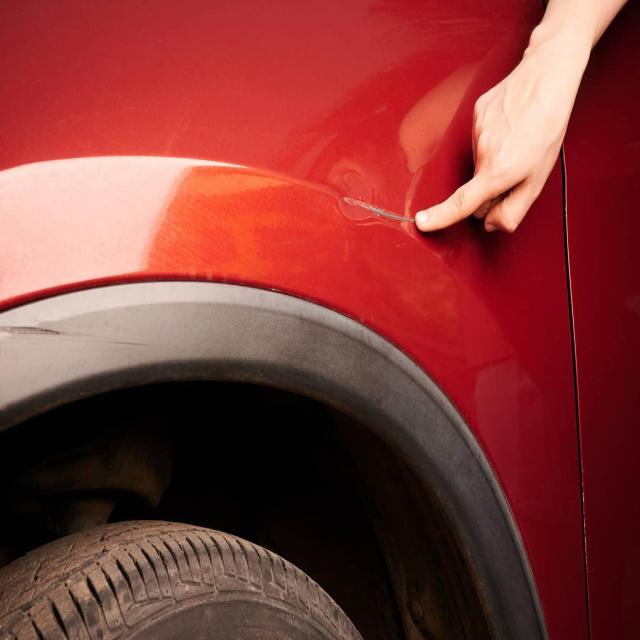dent: (306, 138, 416, 246)
